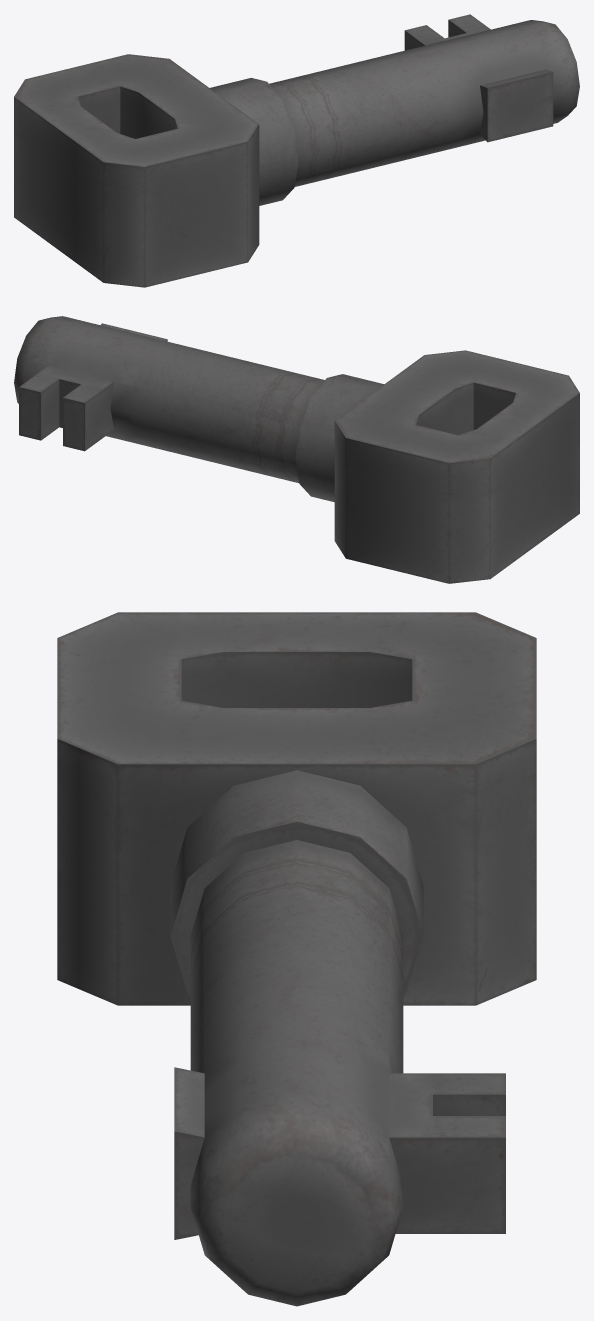
File: Key_Unity.fbx
3 renders of one model, top to bottom at view 1: azimuth 30°, elevation 25°; view 2: azimuth 150°, elevation 25°; view 3: azimuth 270°, elevation 25°, orthographic. The views are drawn at different scales.
Visible parts, largest first — view 1: Key_LP; view 2: Key_LP; view 3: Key_LP.
Boxes of the visible parts, x1,y1,x2,y2 form: Key_LP: [14, 14, 579, 287]; Key_LP: [14, 316, 579, 583]; Key_LP: [57, 612, 536, 1306].
Size of the model in its own units: 87 by 20 by 36.
